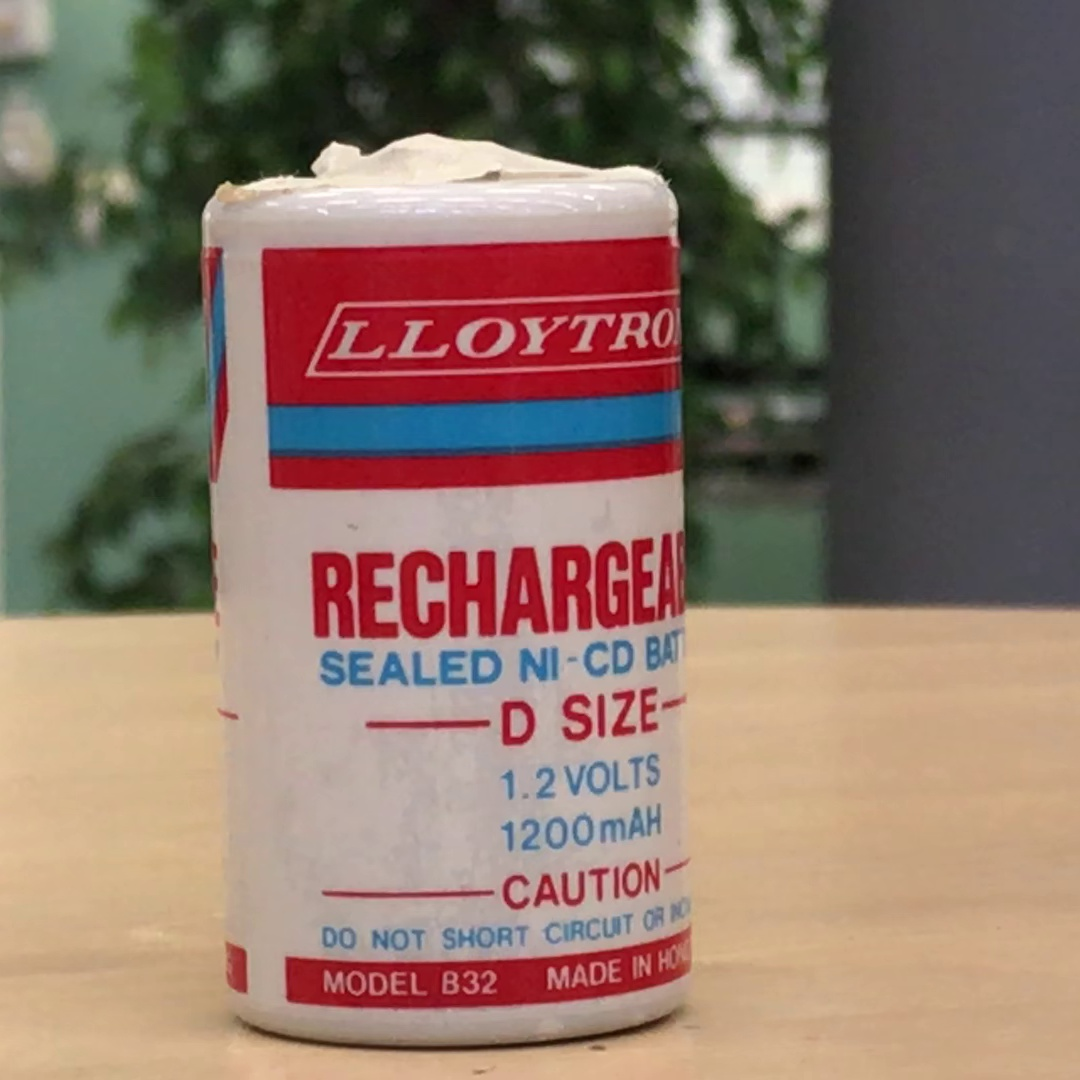keyword: (504, 630, 654, 714)
